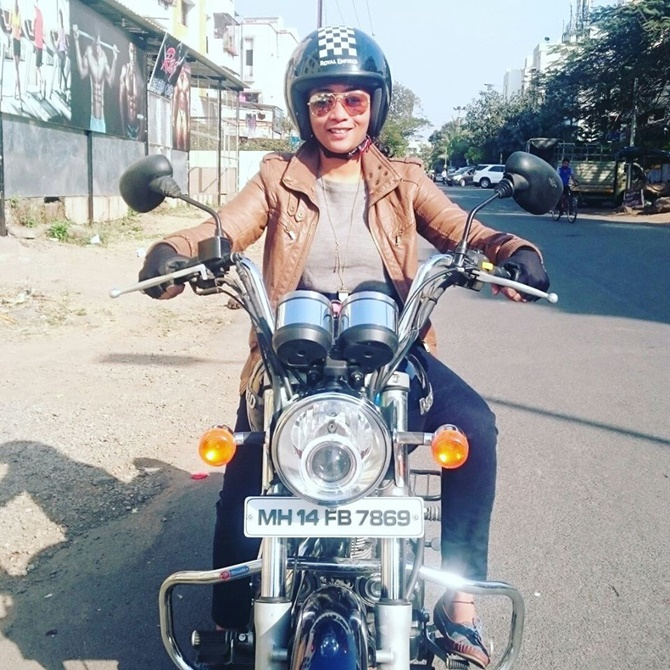with_helmet: (284, 19, 392, 159)
